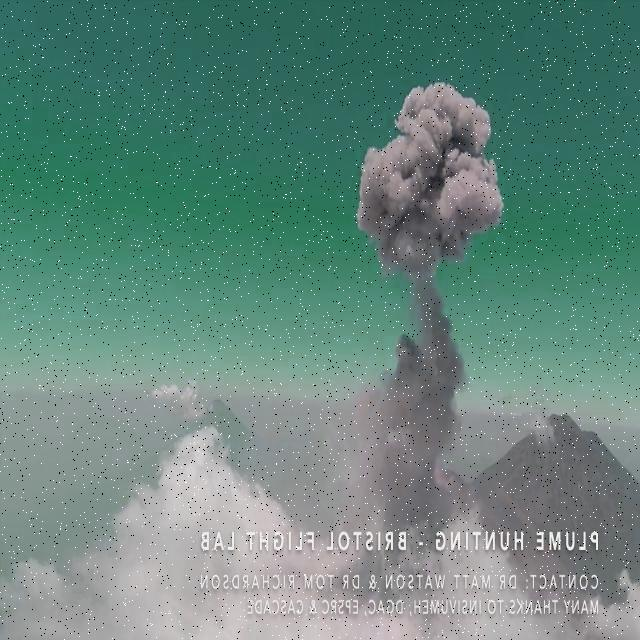Plume: (347, 72, 506, 278), (367, 286, 458, 518)
